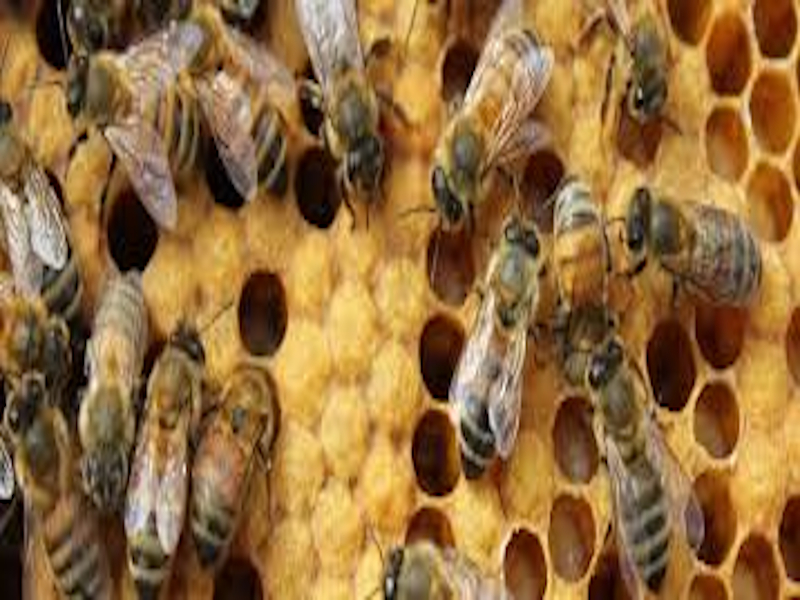abeja: (297, 1, 400, 227)
{}}}}}}}}}}}abeja: (607, 169, 795, 324), (423, 7, 545, 238), (119, 310, 219, 591), (186, 351, 300, 564), (450, 215, 543, 476), (78, 264, 144, 530)
